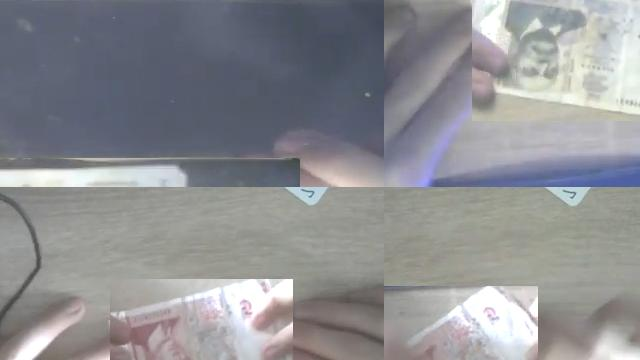5leva: (114, 279, 273, 360), (384, 286, 538, 360)
